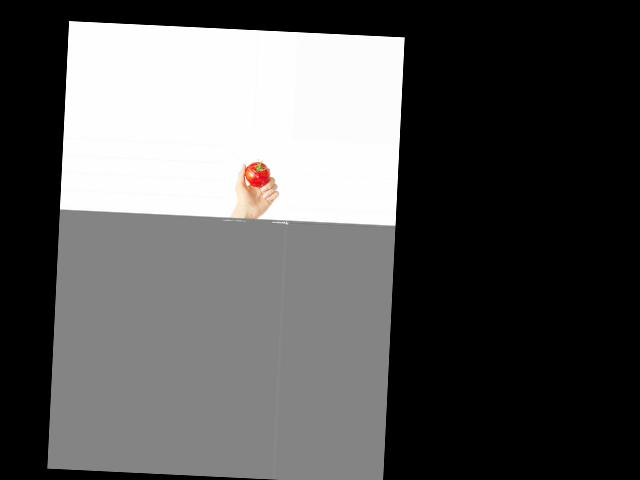tomato: (244, 161, 270, 187)
